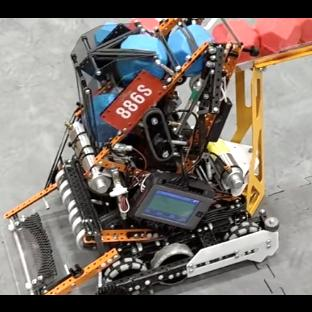Robot: (4, 17, 278, 294)
